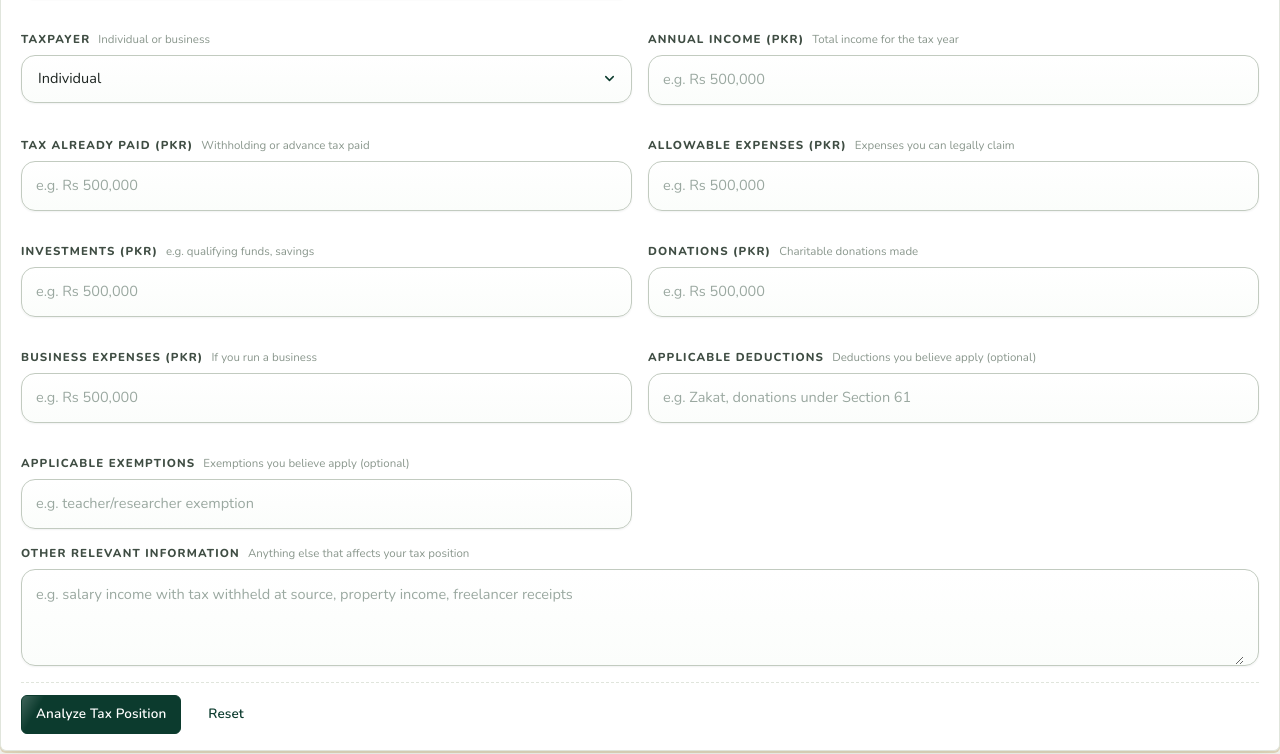
it: TaxReducerPage — form and validation › shows the missing-information state when nothing is provided
(page scrolled)
Click the button with test id "tax-reducer-analyze-button" at (101, 714), box [21, 695, 181, 734]
(page scrolled)
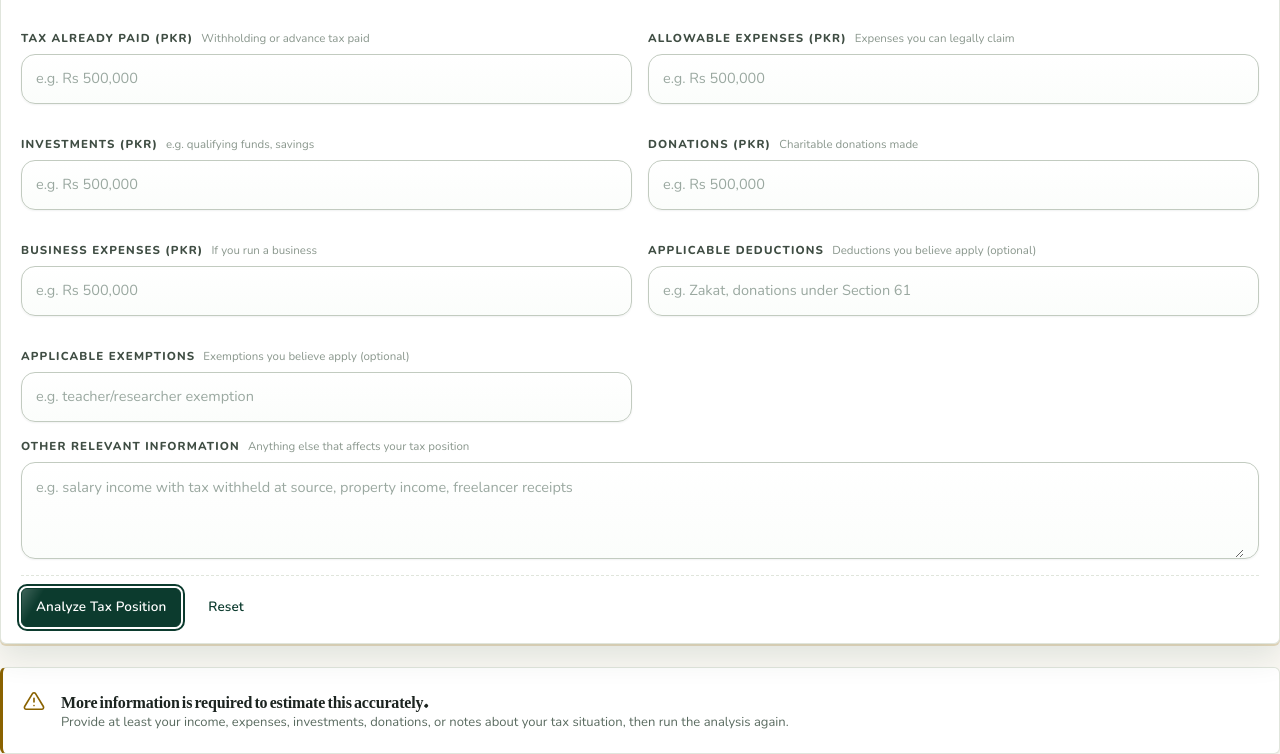
Check: the message with test id "tax-reducer-missing-info" shows "More information is required to estimate this accurately.", box [61, 678, 428, 718]
